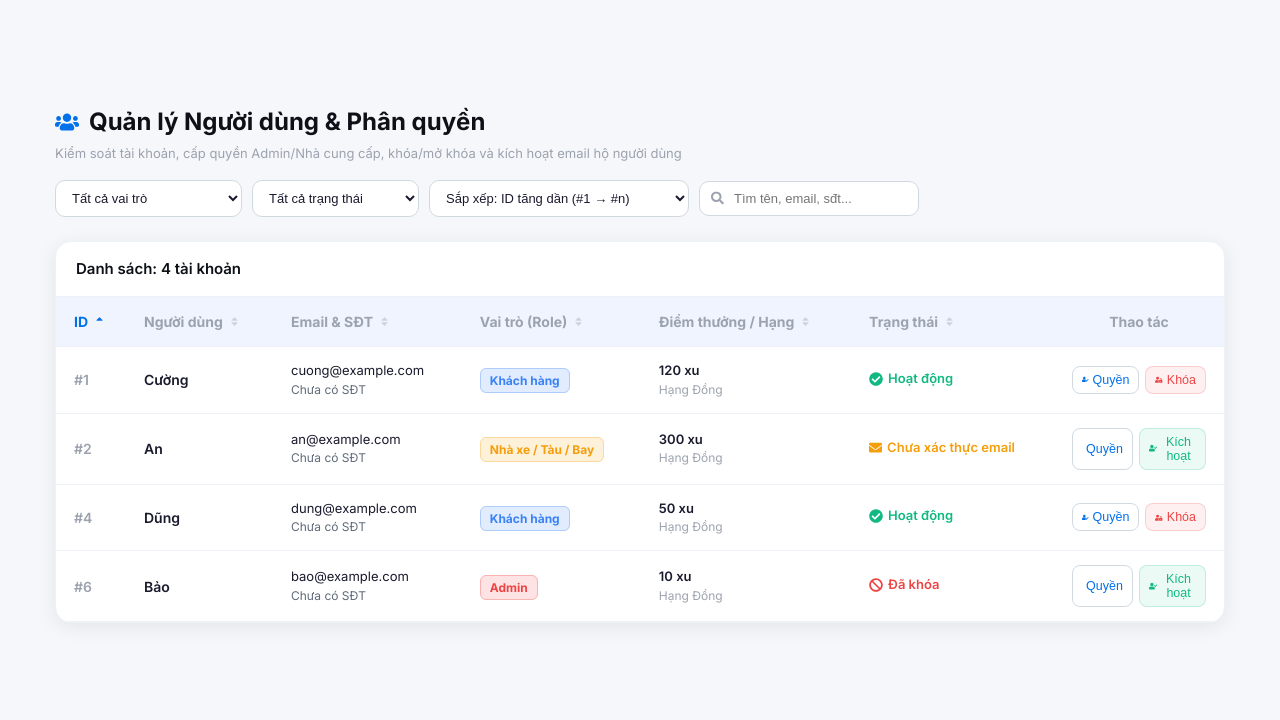
Scenario: AdminUsers - hộp thoại › modal phân quyền render ngoài cây trang để bám theo màn hình
Check: the text "#4" is shown, box [56,484,126,550]
Click the button titled "Phân quyền tài khoản" in the row of "Cường". click: [1106, 380]
box: [1072,366,1139,394]
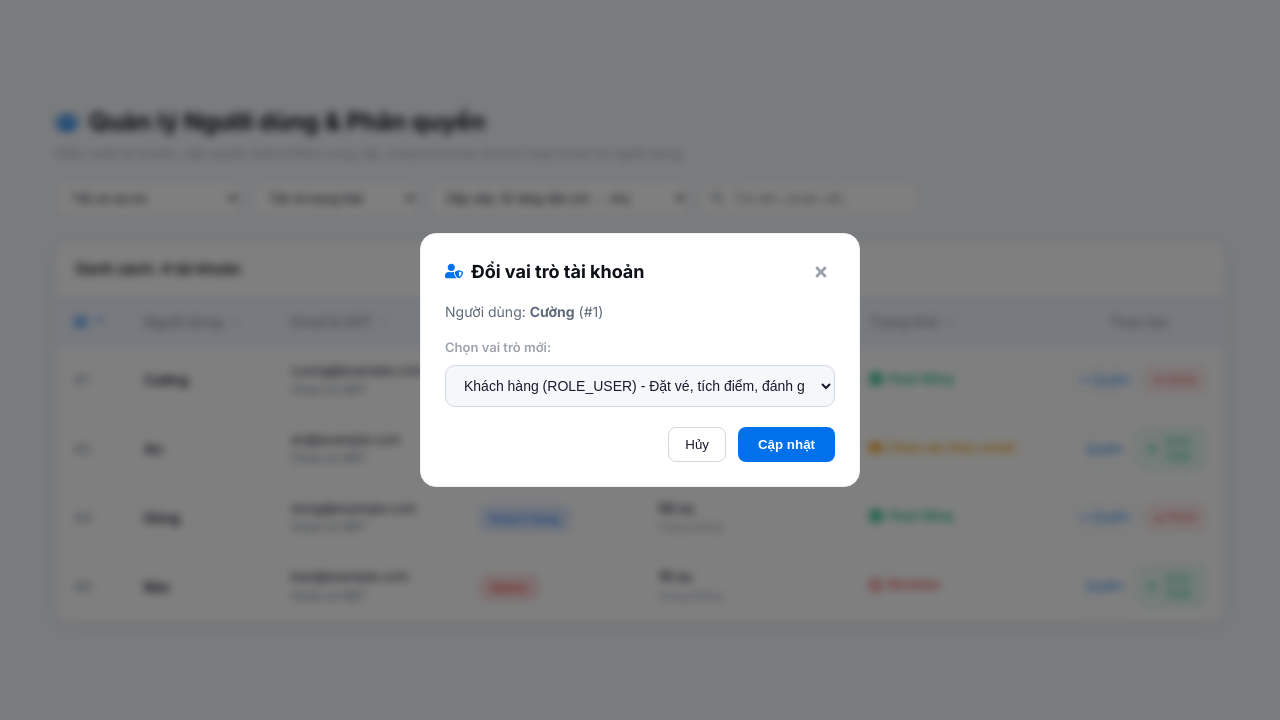
Check: the heading "Đổi vai trò tài khoản" is shown, box [445,258,644,285]
Press Escape
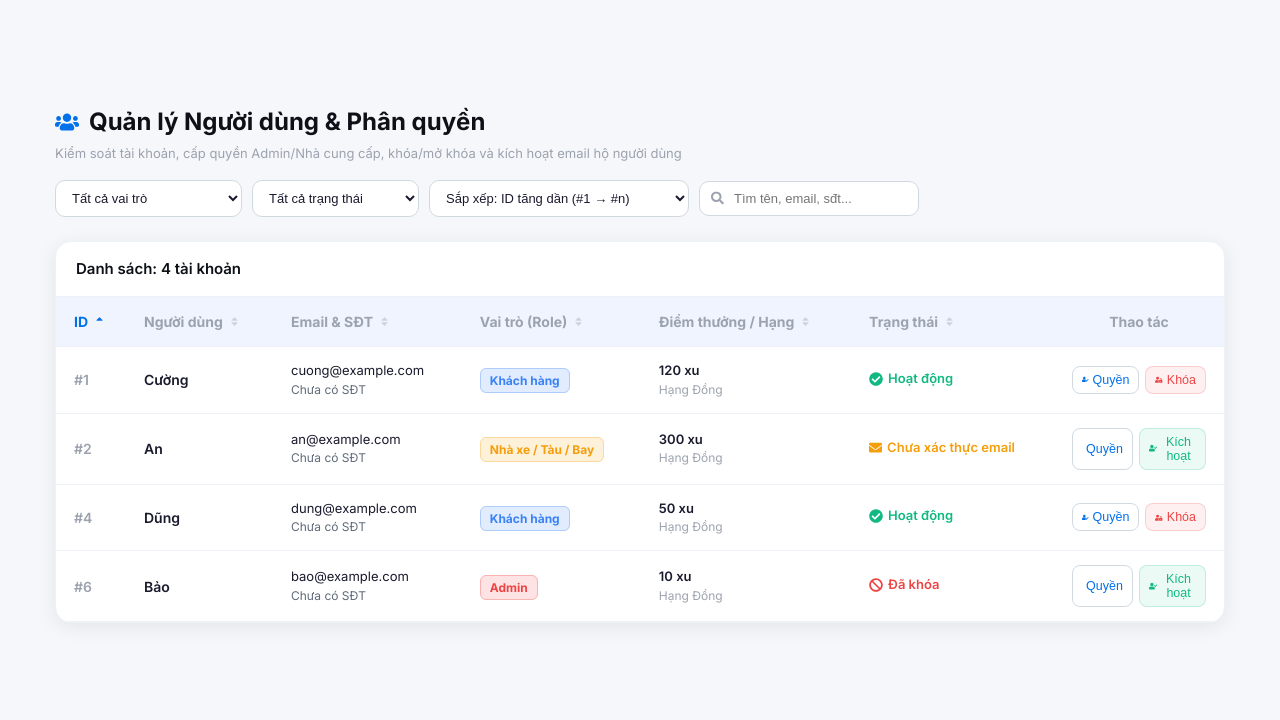
Check: the heading "Đổi vai trò tài khoản" is gone
